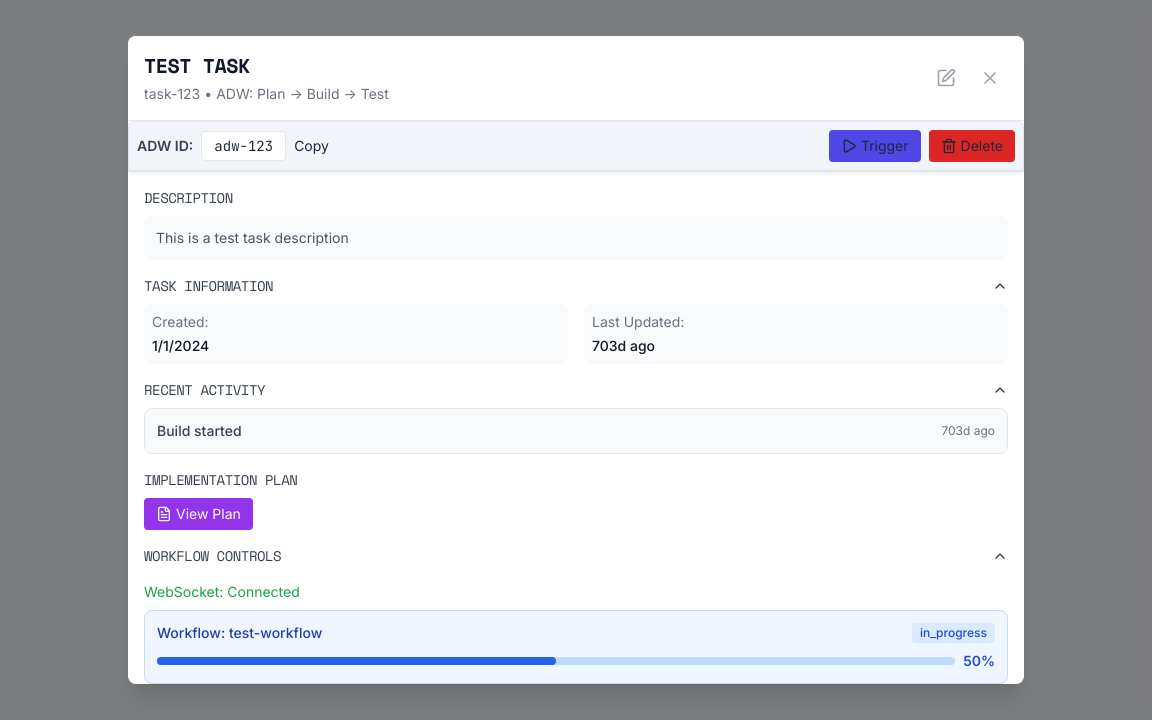
Test: TaskDetailsModal Component › Collapsible Sections › should toggle task information section
The width and height of the screenshot is (1152, 720).
Expected: the text "Created:" is shown, [152, 313, 209, 330]
Click to collapse
Click the button "Task Information": (209, 286) [144, 276, 1008, 296]
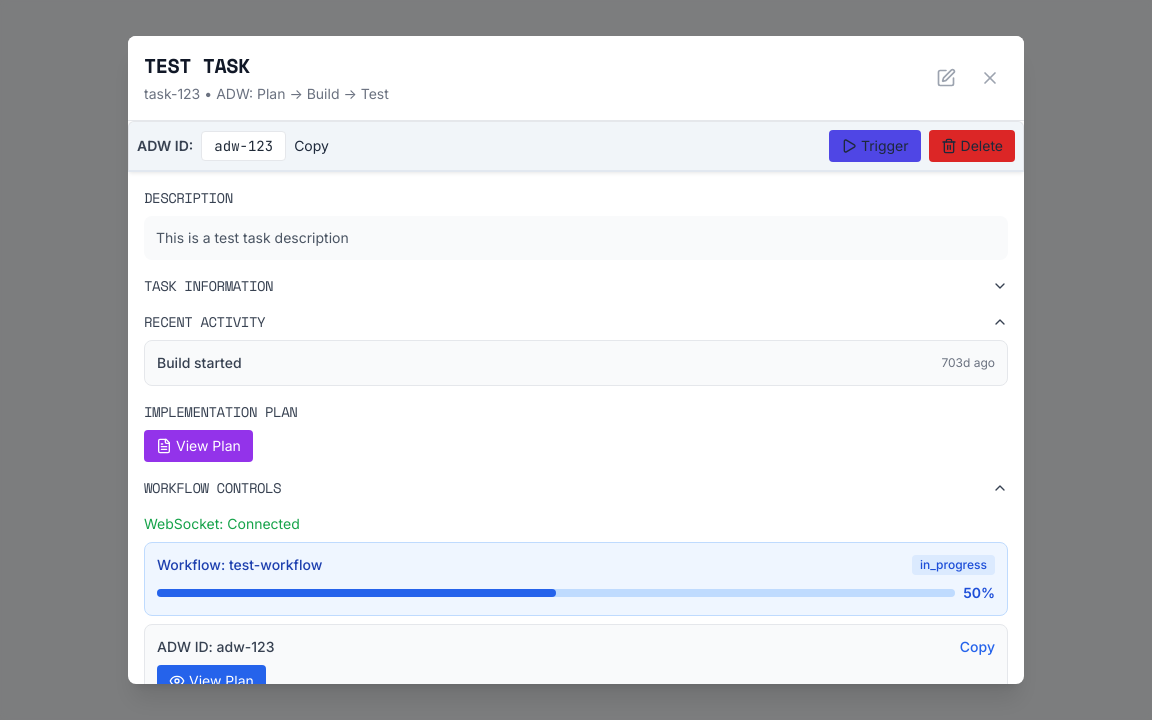
Expected: the text "Created:" is gone
